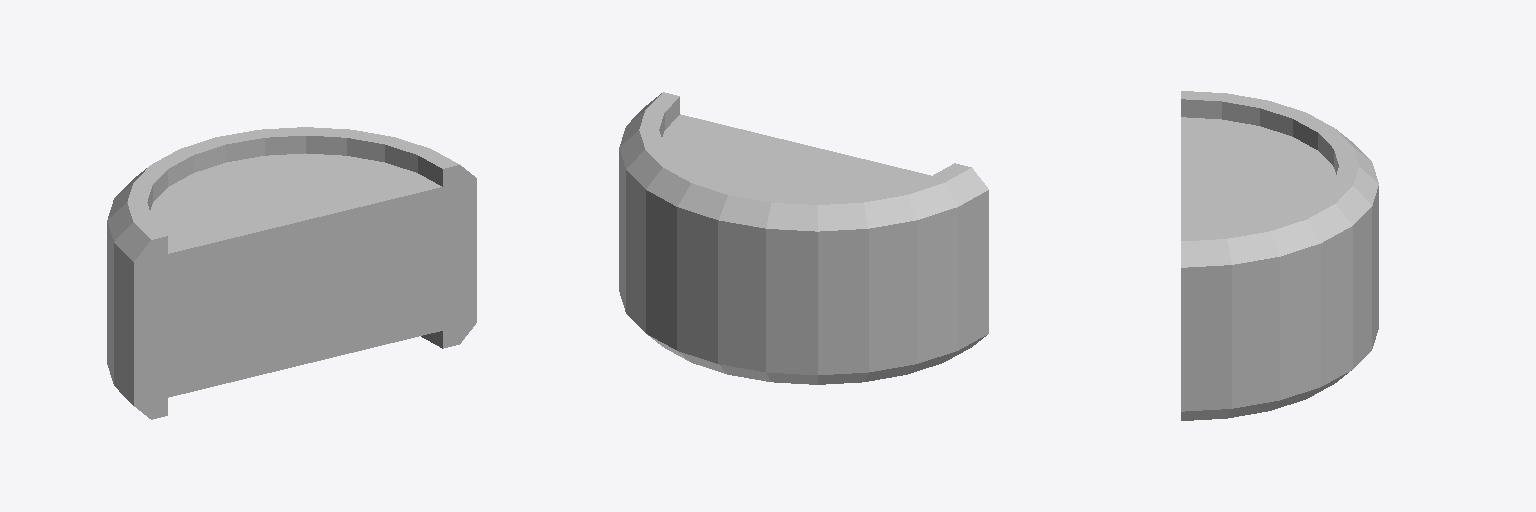
The model's file is block-snow-curve.obj.
3 renders of one model, left to right at view 1: azimuth 30°, elevation 25°; view 2: azimuth 150°, elevation 25°; view 3: azimuth 270°, elevation 25°, orthographic.
Parts seen in each view (by area): view 1: block-snow-curve; view 2: block-snow-curve; view 3: block-snow-curve.
Boxes of the visible parts, <box> form: block-snow-curve: <box>107,127,476,419</box>; block-snow-curve: <box>619,92,988,384</box>; block-snow-curve: <box>1181,91,1378,420</box>.
Bounding box in the file's own units: 2 × 1 × 1.